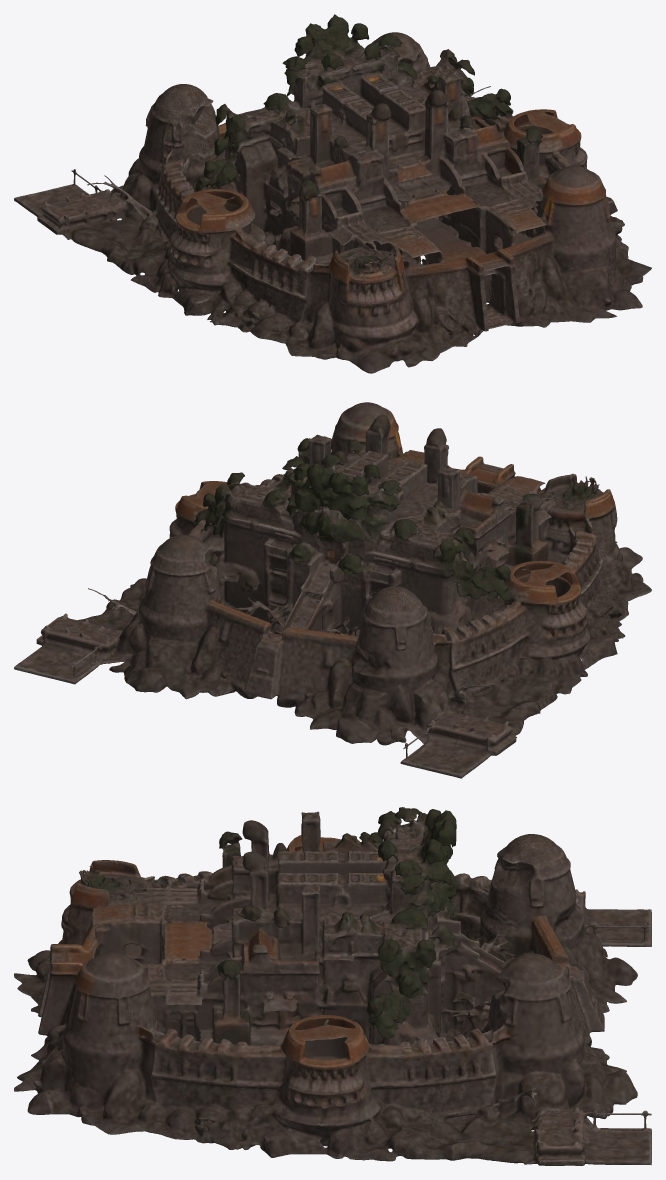
File: fort4.glb
The picture shows the model from 3 angles, top to bottom: view 1: azimuth 30°, elevation 25°; view 2: azimuth 150°, elevation 25°; view 3: azimuth 270°, elevation 25°; orthographic projection. The views are drawn at different scales.
Size of the model in its own units: 1.84 by 0.7748 by 1.9.
1 material, 1 textured.
